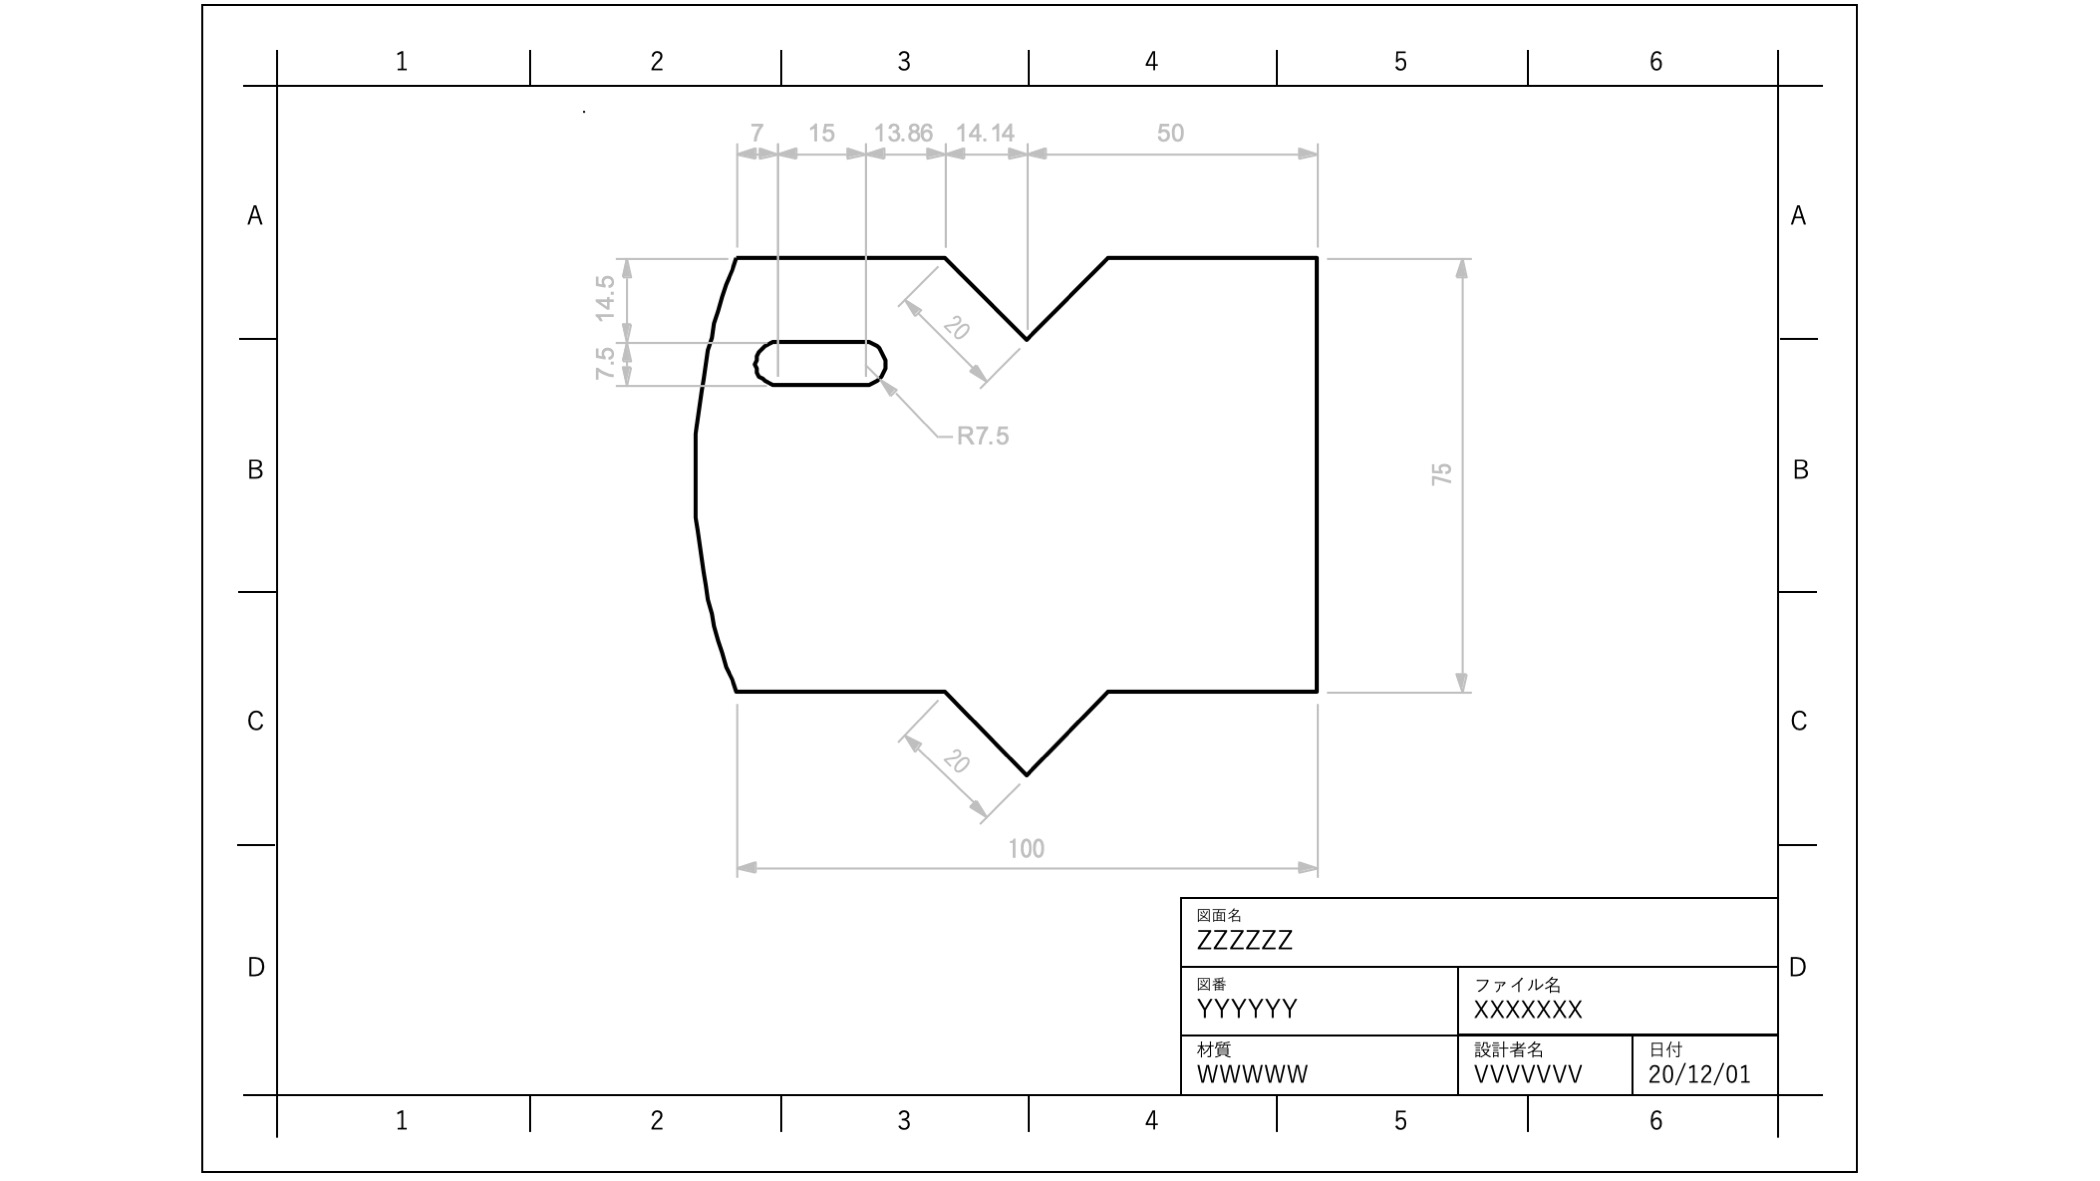round_rectangle: (744, 327, 897, 394)
